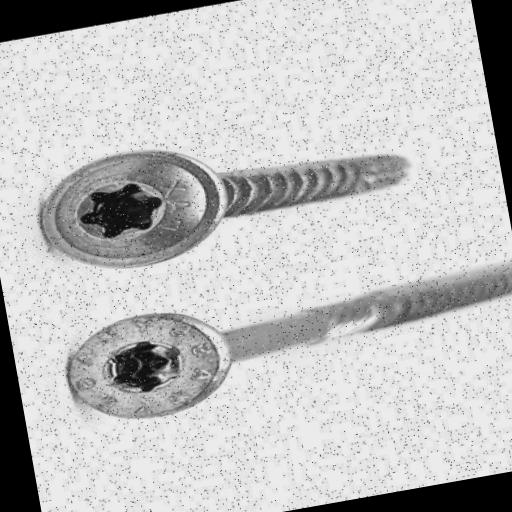Torx: (20, 118, 238, 296), (45, 271, 252, 456)
